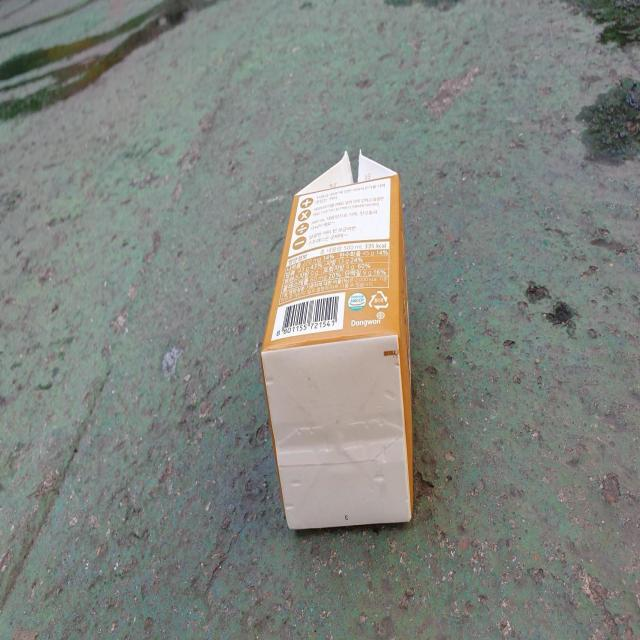paperpack: (261, 151, 413, 529)
